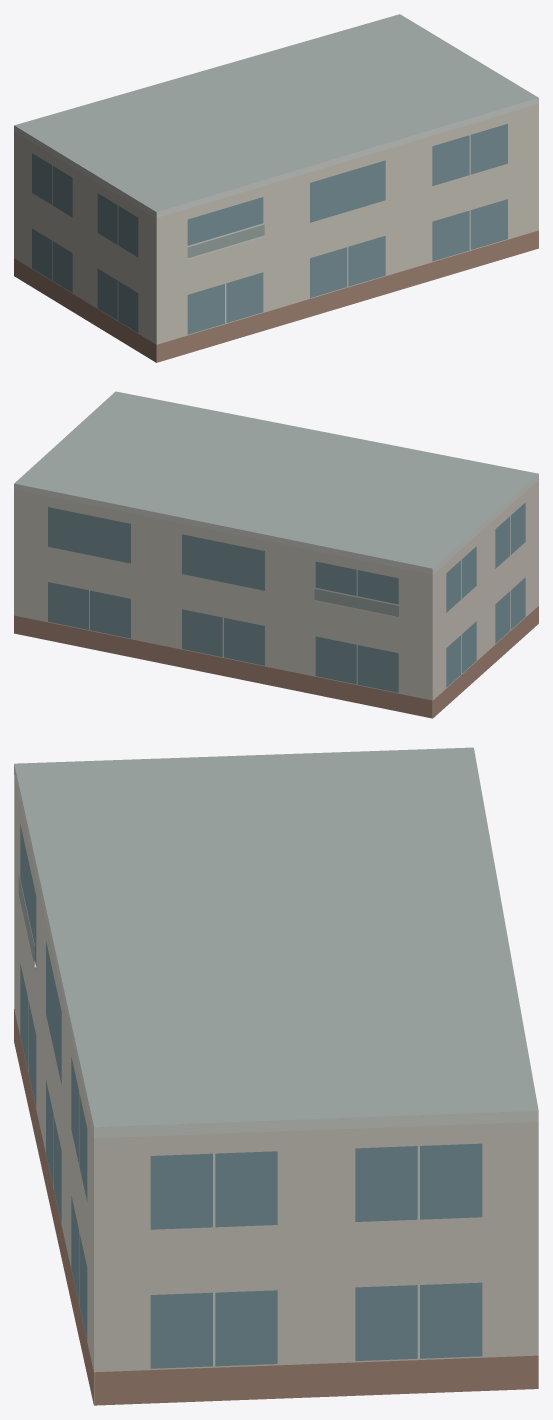
The model's file is survey-upis-32757125.glb.
3 renders of one model, top to bottom at view 1: azimuth 30°, elevation 25°; view 2: azimuth 150°, elevation 25°; view 3: azimuth 270°, elevation 25°, orthographic. The views are drawn at different scales.
Visible parts, largest first — view 1: survey-upis-32757125.tmp; view 2: survey-upis-32757125.tmp; view 3: survey-upis-32757125.tmp.
Boxes of the visible parts, x1,y1,x2,y2 form: survey-upis-32757125.tmp: [14, 14, 538, 362]; survey-upis-32757125.tmp: [14, 391, 538, 718]; survey-upis-32757125.tmp: [14, 747, 538, 1405].
Size of the model in its own units: 17.88 by 6.1 by 10.44.
